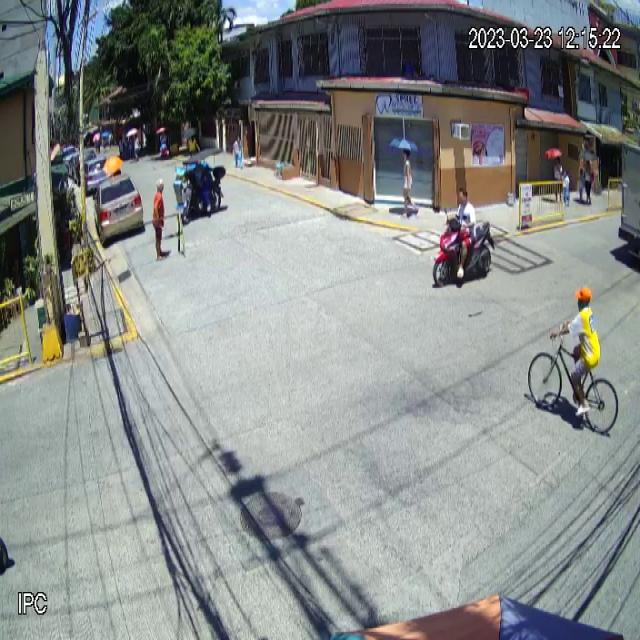Car: (93, 173, 144, 246)
Motorcycle: (431, 207, 495, 286)
Tricycle: (173, 146, 226, 221)
